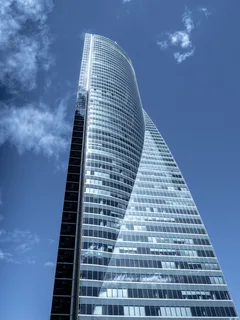high_rise_building: (60, 29, 205, 312)
